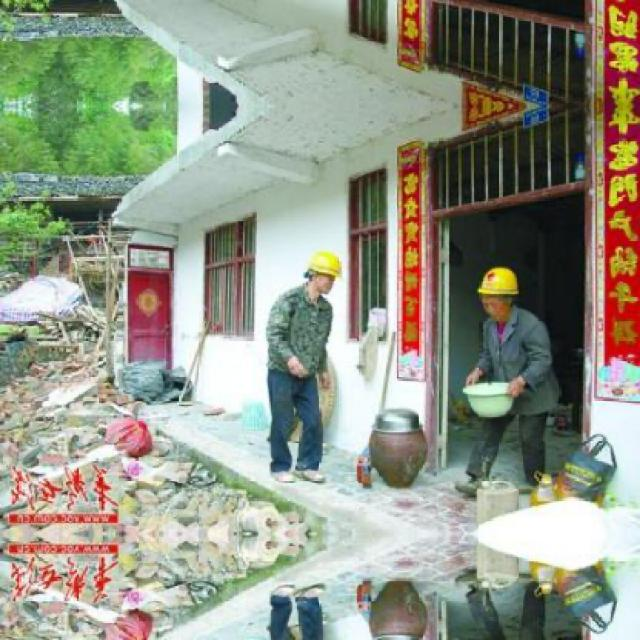helmet: (475, 259, 523, 323), (302, 243, 344, 297)
